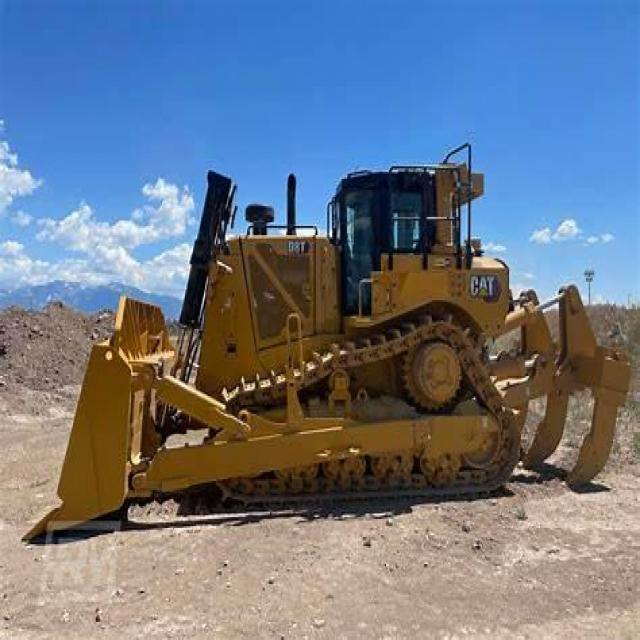Bulldozer: (49, 143, 633, 544)
